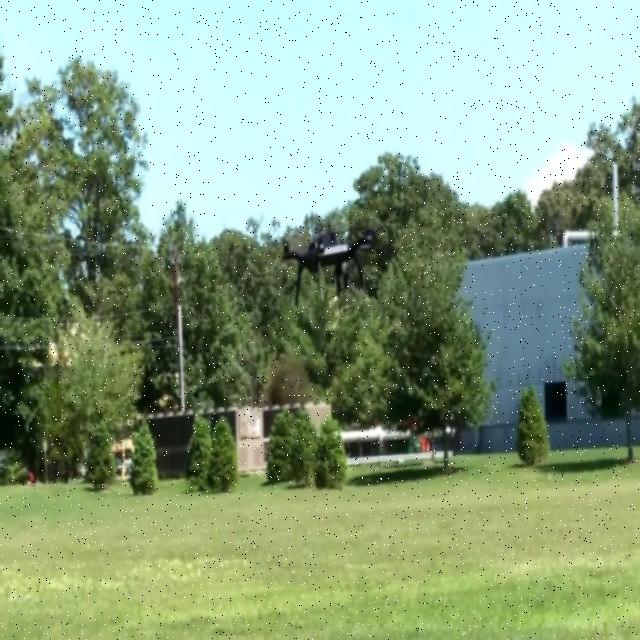UAV: (284, 226, 372, 306)
